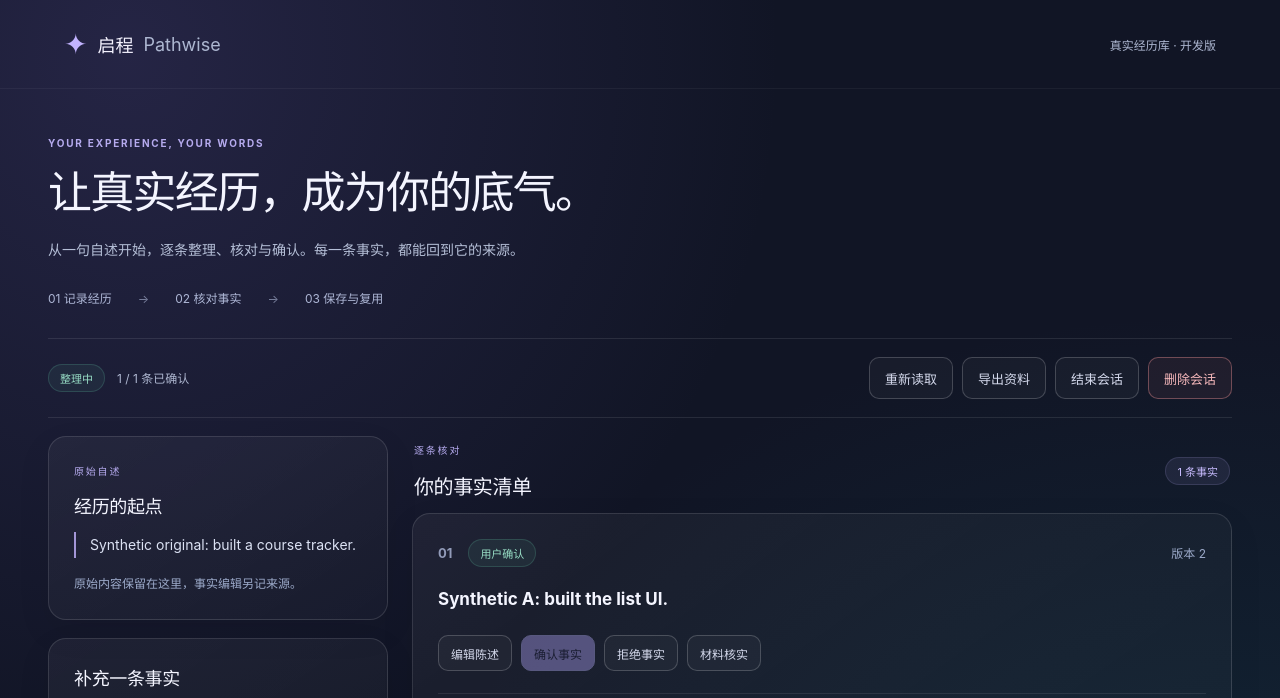
Scenario: experience workspace with recorded FastAPI contracts › refreshes a 409 without overwriting drafts or automatically replaying edits
This screenshot has width=1280, height=698.
Click the button "编辑陈述".
click(475, 653)  # box [438, 635, 512, 671]
(page scrolled)
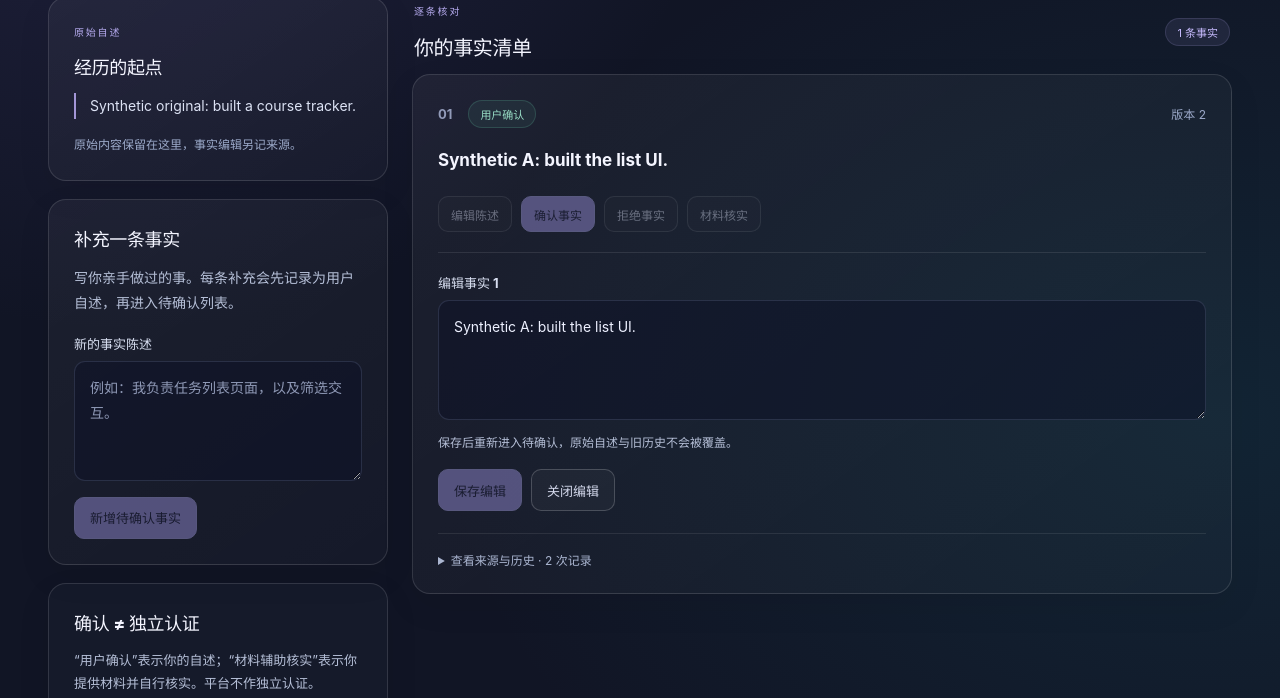
Replace the text in the text box labelled "编辑事实 1" with "My unsubmitted draft" at [822, 360], box [438, 300, 1206, 420]
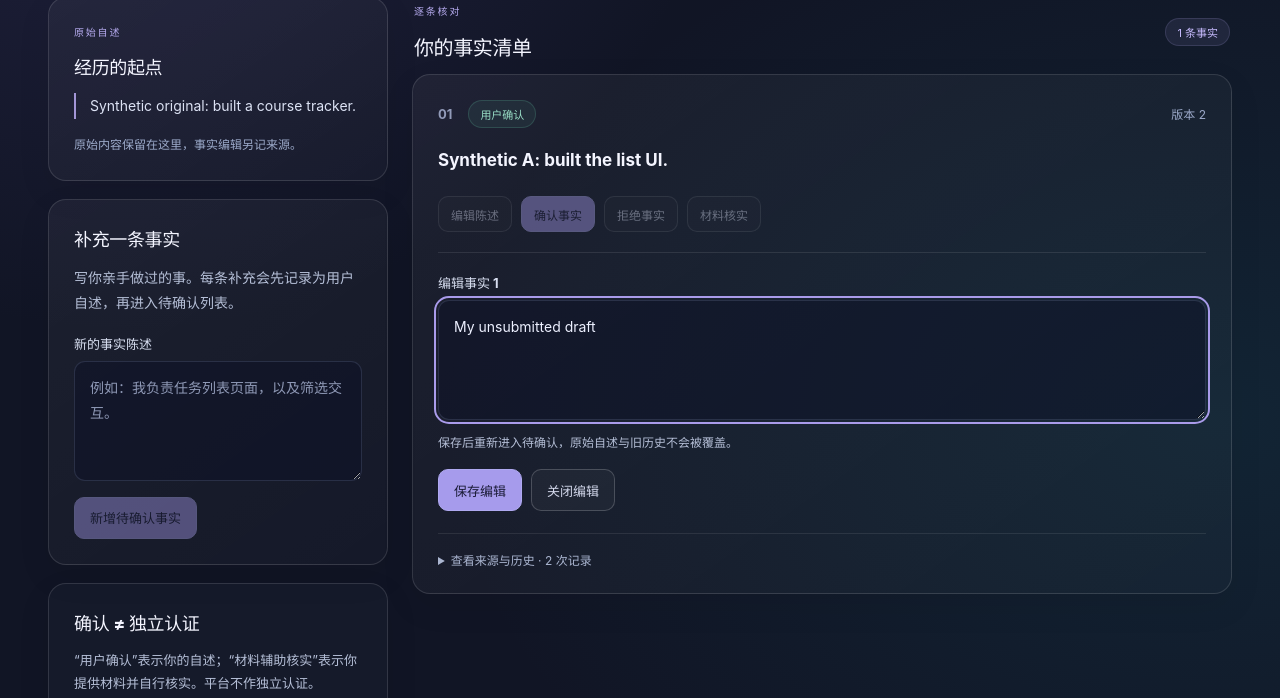
Click the button "保存编辑".
click(480, 490)  # box [438, 469, 522, 511]
(page scrolled)
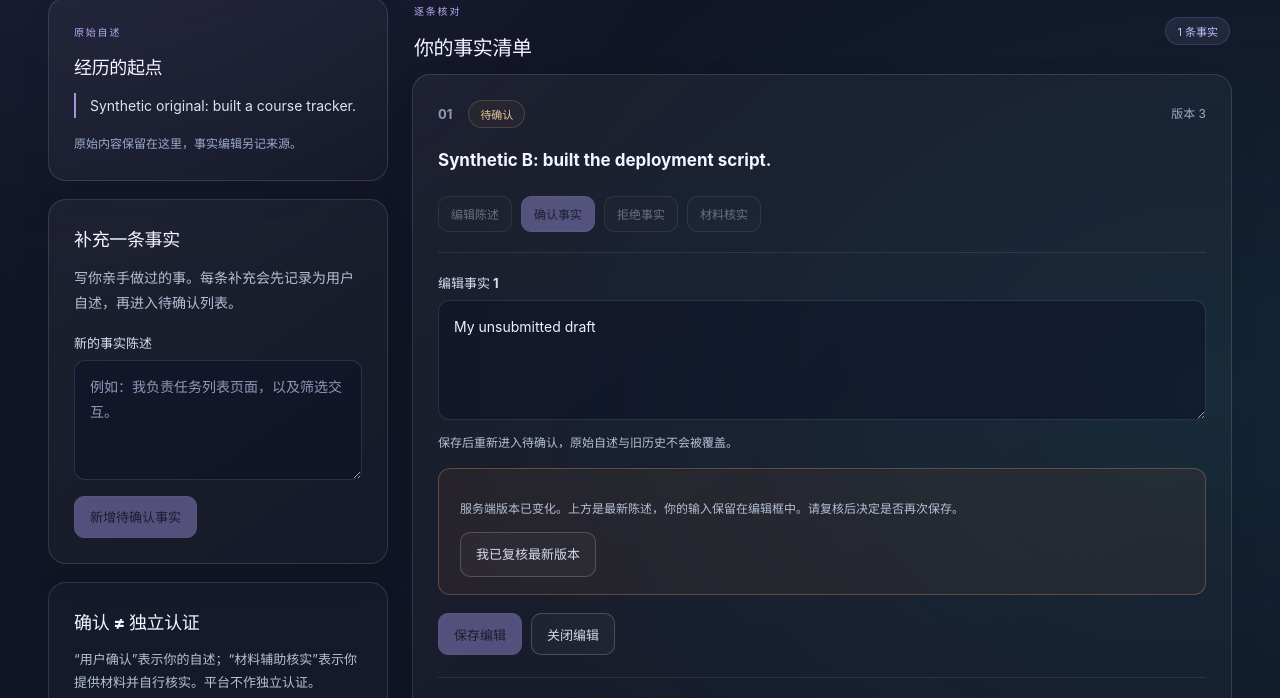
Check: the heading "Synthetic B: built the deployment script." is shown, box [438, 150, 772, 170]
Check: the button "保存编辑" is disabled, box [438, 613, 522, 655]
Click the button "我已复核最新版本".
click(528, 555)  # box [460, 532, 596, 577]
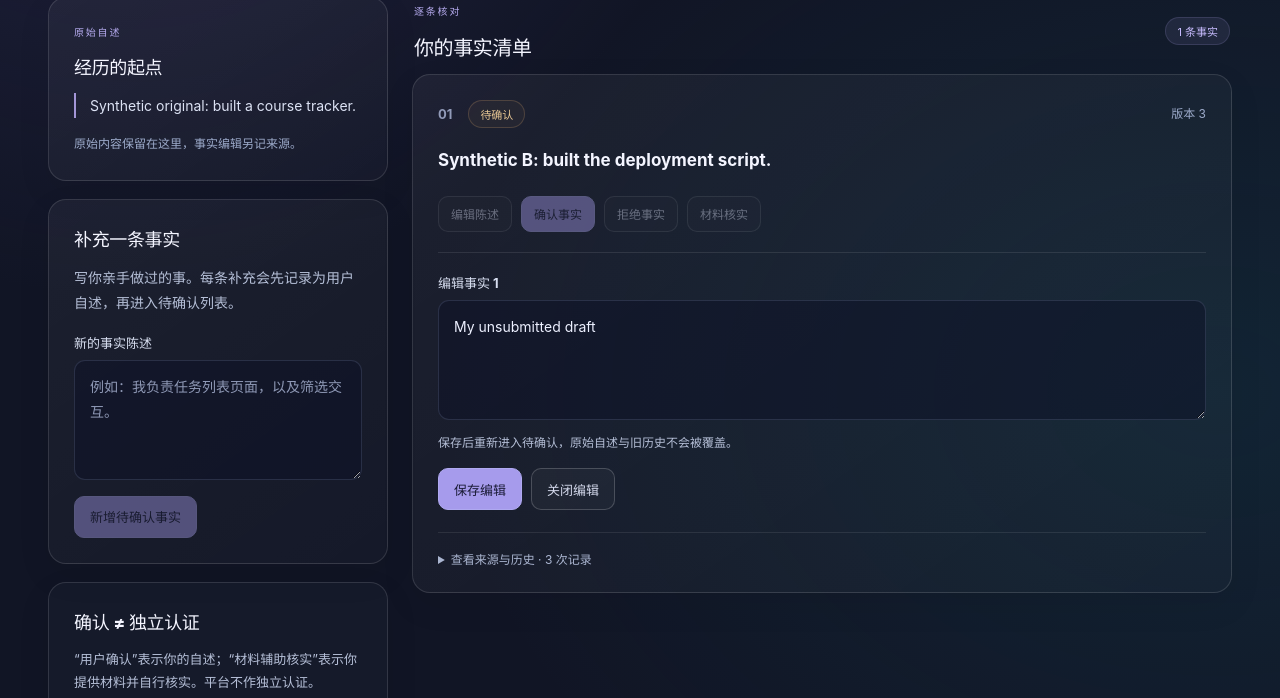
Check: the button "保存编辑" is enabled, box [438, 468, 522, 510]
